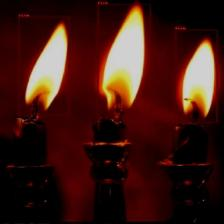fire: (97, 4, 151, 119), (18, 16, 70, 116), (174, 29, 218, 123)
